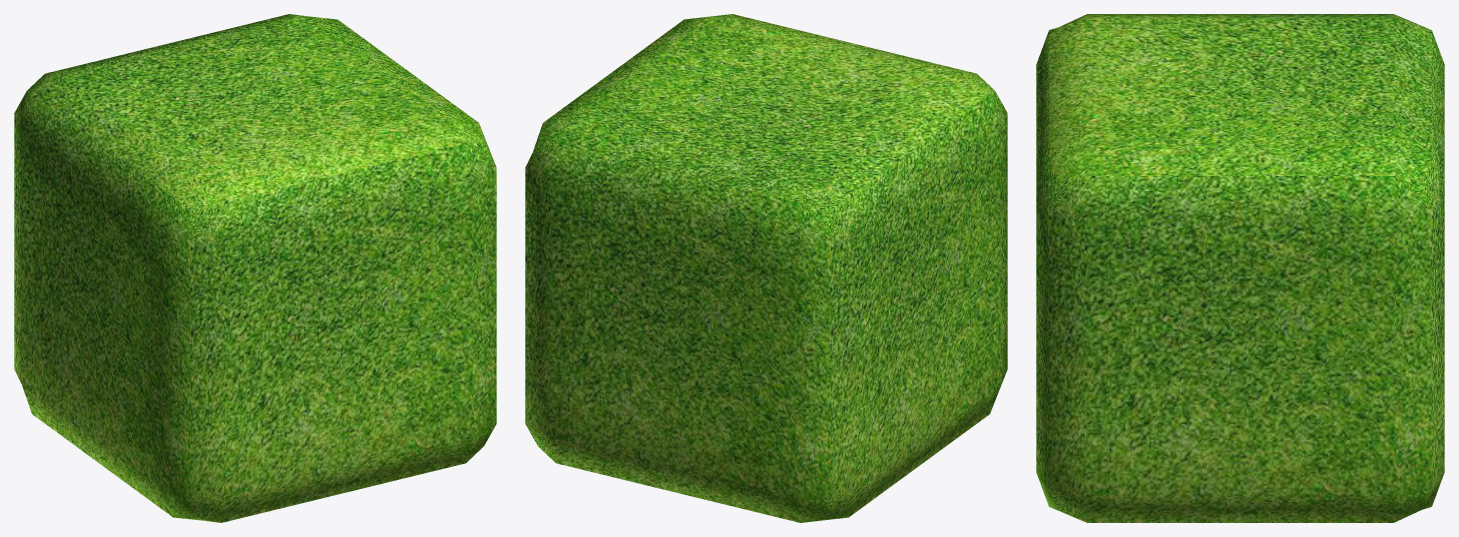
The picture shows the model from 3 angles, left to right: view 1: azimuth 30°, elevation 25°; view 2: azimuth 150°, elevation 25°; view 3: azimuth 270°, elevation 25°; orthographic projection. The views are drawn at different scales.
Visible parts, largest first — view 1: Box001; view 2: Box001; view 3: Box001.
Part boxes in pixels (x1,y1,x2,y2): Box001: (14,14,496,522); Box001: (525,14,1007,522); Box001: (1036,14,1444,522).
Size of the model in its own units: 100 by 100 by 100.
1 material, 1 textured.
